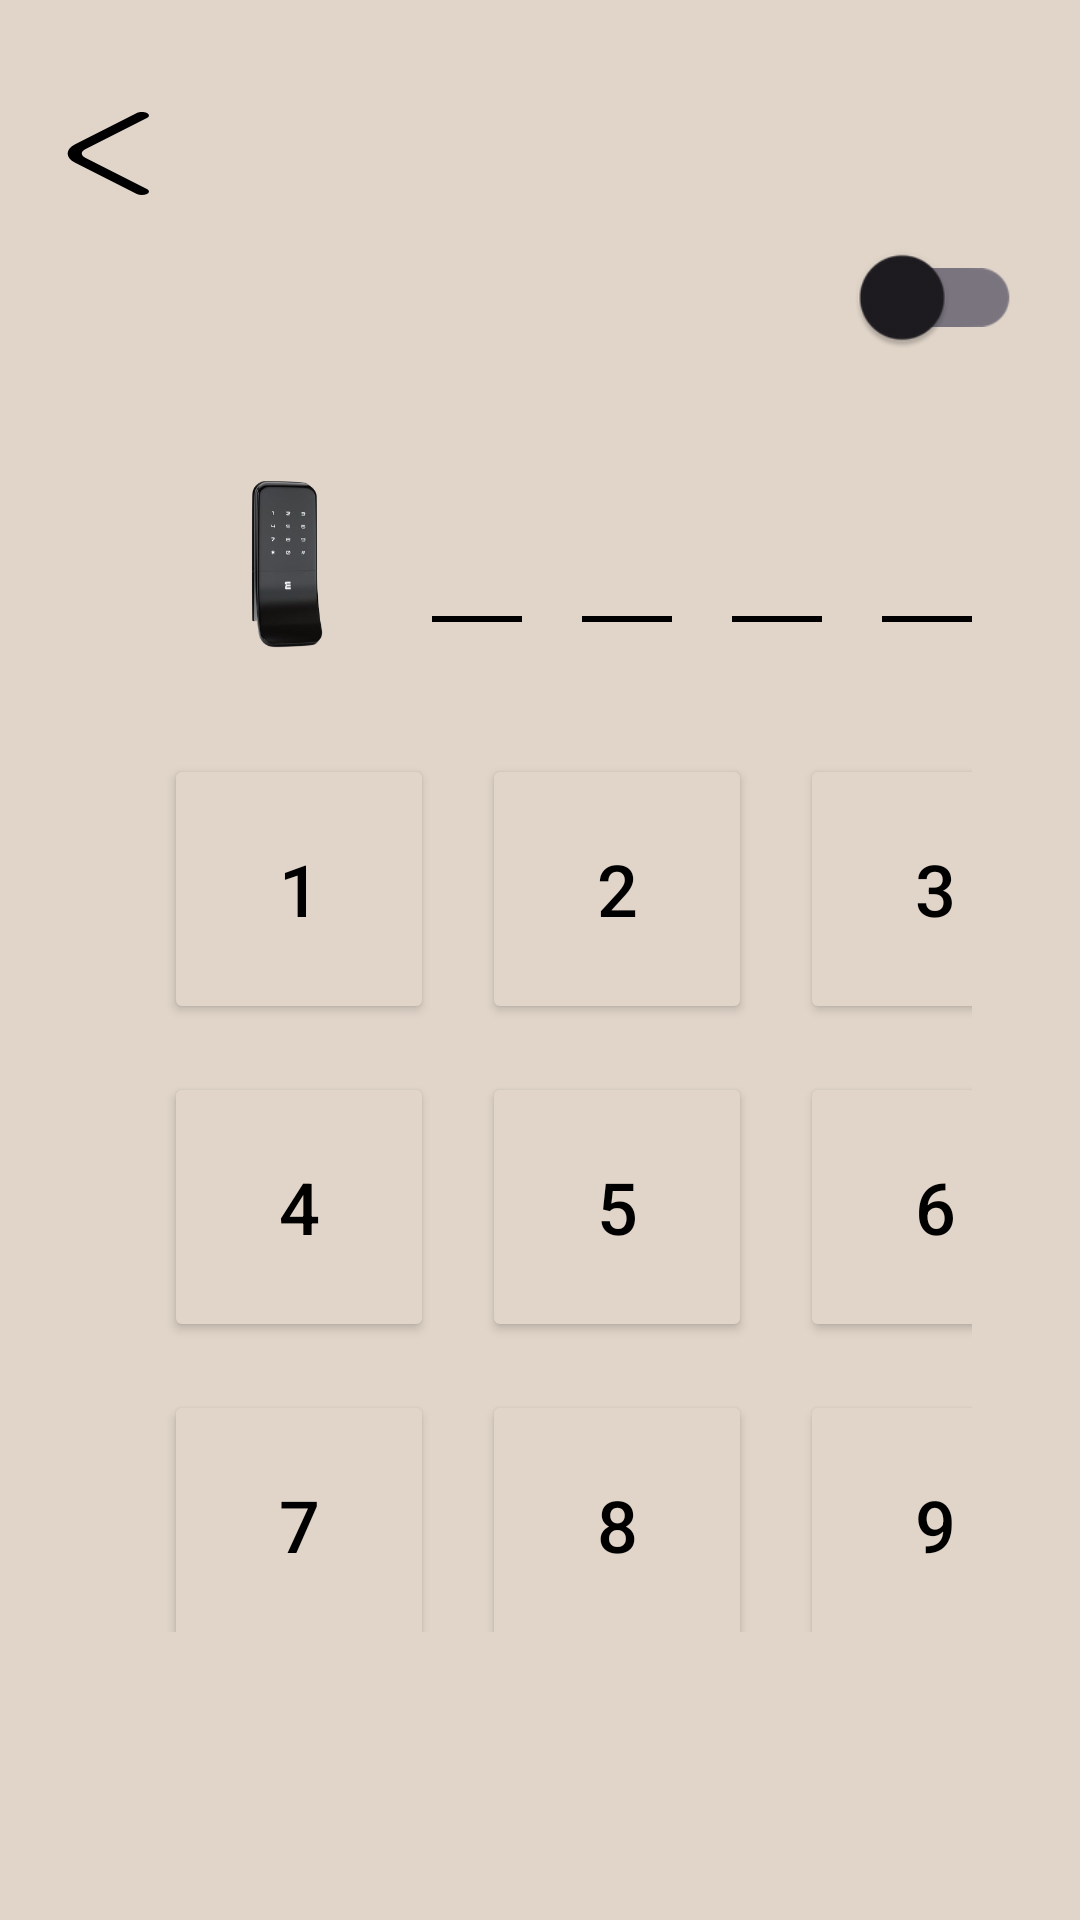

Named icons in this screenshot (1080w x 1920h) and their bounding boxes, (x1, y1, x2, y2):
arrow left: (67, 112, 149, 195)
windowlock: (252, 481, 323, 647)
